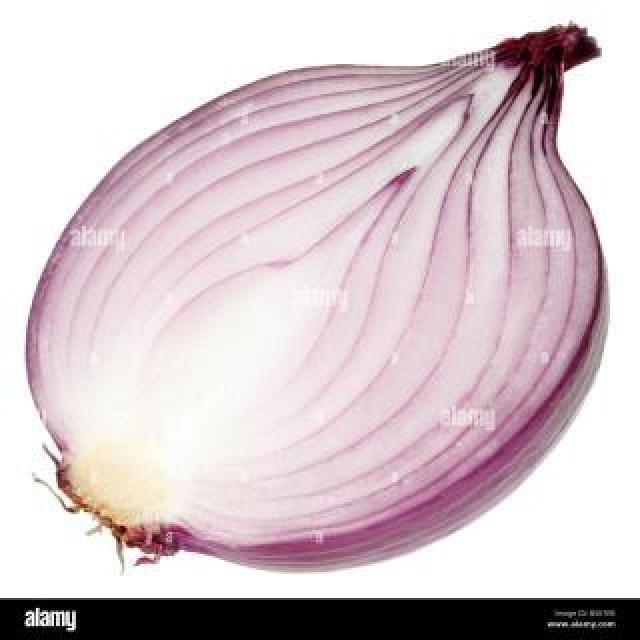Wet: (28, 18, 617, 576)
